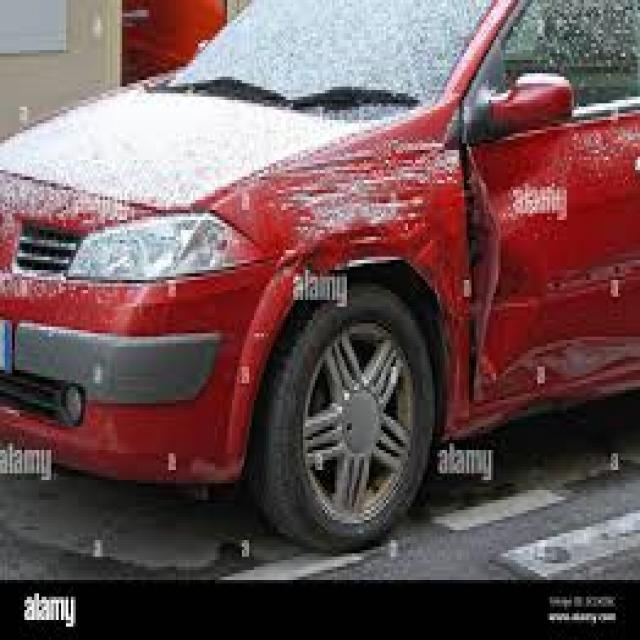damaged-door: (464, 5, 636, 404)
